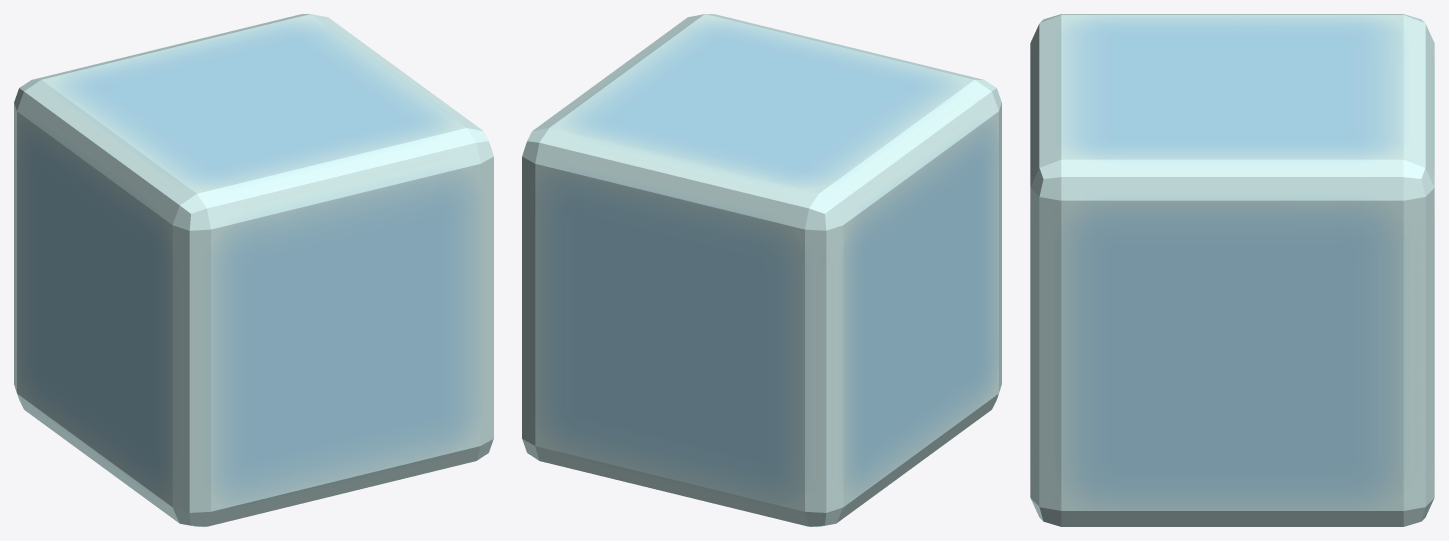
File: tempano-basico-animado-v3.fbx
3 views of the same model, side by side, from view 1: azimuth 30°, elevation 25°; view 2: azimuth 150°, elevation 25°; view 3: azimuth 270°, elevation 25° (orthographic). The views are drawn at different scales.
Parts seen in each view (by area): view 1: FRAGMENTO-TEMPANO-1, FRAGMENTO-TEMPANO-3, FRAGMENTO-TEMPANO-2, FRAGMENTO-TEMPANO-6, FRAGMENTO-TEMPANO-4, FRAGMENTO-TEMPANO-8, FRAGMENTO-TEMPANO-5; view 2: FRAGMENTO-TEMPANO-6, FRAGMENTO-TEMPANO-8, FRAGMENTO-TEMPANO-5, FRAGMENTO-TEMPANO-1, FRAGMENTO-TEMPANO-7, FRAGMENTO-TEMPANO-3, FRAGMENTO-TEMPANO-2; view 3: FRAGMENTO-TEMPANO-2, FRAGMENTO-TEMPANO-5, FRAGMENTO-TEMPANO-4, FRAGMENTO-TEMPANO-7, FRAGMENTO-TEMPANO-1, FRAGMENTO-TEMPANO-6.
Boxes of the visible parts, x1,y1,x2,y2 form: FRAGMENTO-TEMPANO-1: (94,104,345,371); FRAGMENTO-TEMPANO-3: (94,309,345,526); FRAGMENTO-TEMPANO-2: (254,71,493,337); FRAGMENTO-TEMPANO-6: (14,47,253,308); FRAGMENTO-TEMPANO-4: (342,298,493,493); FRAGMENTO-TEMPANO-8: (14,243,101,466); FRAGMENTO-TEMPANO-5: (167,14,405,103); FRAGMENTO-TEMPANO-6: (670,104,921,371); FRAGMENTO-TEMPANO-8: (670,309,921,526); FRAGMENTO-TEMPANO-5: (522,71,761,337); FRAGMENTO-TEMPANO-1: (762,47,1001,308); FRAGMENTO-TEMPANO-7: (522,298,673,493); FRAGMENTO-TEMPANO-3: (914,243,1001,466); FRAGMENTO-TEMPANO-2: (610,14,848,103); FRAGMENTO-TEMPANO-2: (1030,87,1232,355); FRAGMENTO-TEMPANO-5: (1232,87,1434,355); FRAGMENTO-TEMPANO-4: (1030,343,1232,526); FRAGMENTO-TEMPANO-7: (1232,343,1434,526); FRAGMENTO-TEMPANO-1: (1030,14,1232,114); FRAGMENTO-TEMPANO-6: (1232,14,1434,114).
Bounding box in the file's own units: 70 × 70 × 70.
Materials: 2 (1 with a texture image).
